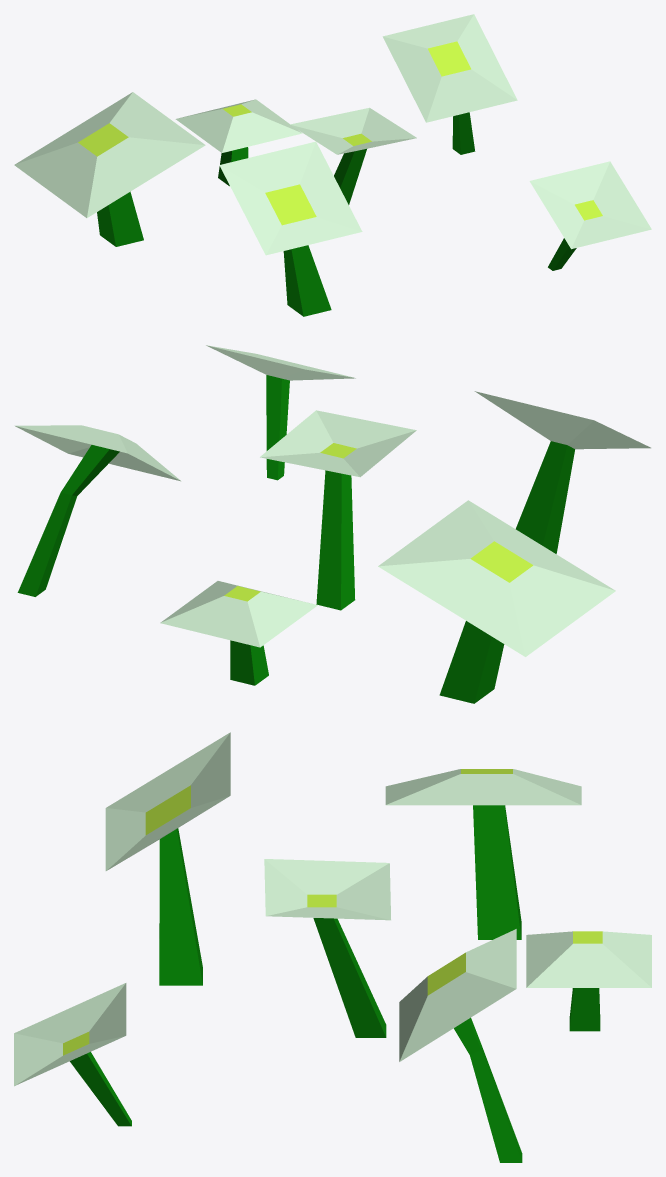
File: SM_Flower3.fbx
3 views of the same model, one above another, from view 1: azimuth 30°, elevation 25°; view 2: azimuth 150°, elevation 25°; view 3: azimuth 270°, elevation 25° (orthographic). The views are drawn at different scales.
Parts seen in each view (by area): view 1: Flower2; view 2: Flower2; view 3: Flower2.
Boxes of the visible parts, <box> form: Flower2: <box>14,14,651,316</box>; Flower2: <box>14,345,650,703</box>; Flower2: <box>14,732,651,1162</box>.
Size of the model in its own units: 17.21 by 5.52 by 16.2.
